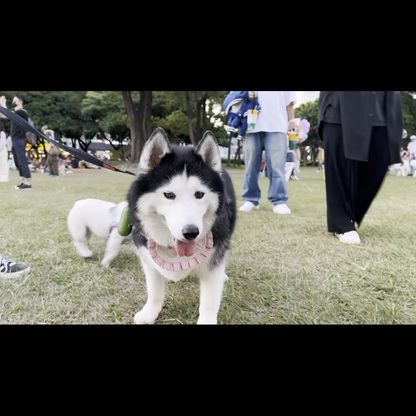husky: (115, 118, 249, 322)
